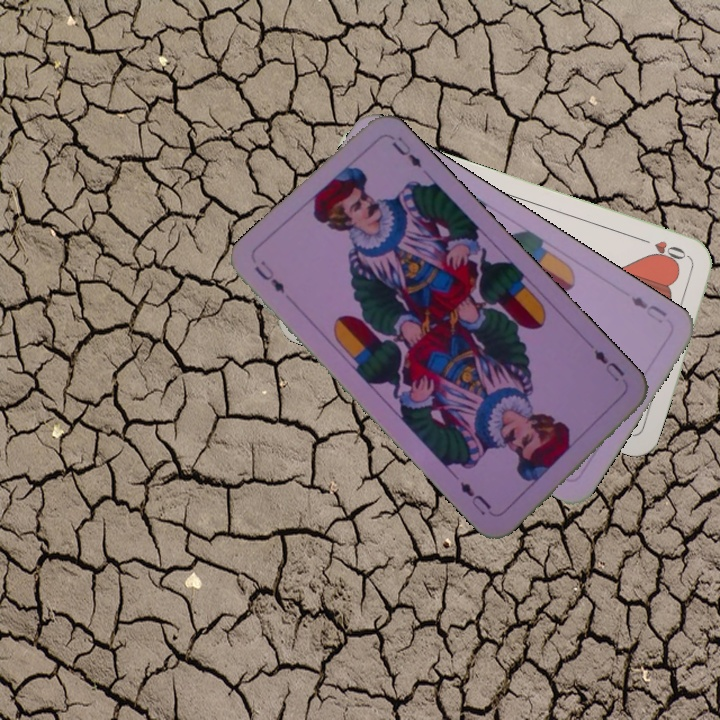EU: (589, 345, 628, 385), (250, 256, 288, 297), (626, 292, 670, 326)
HO: (636, 233, 693, 267)
